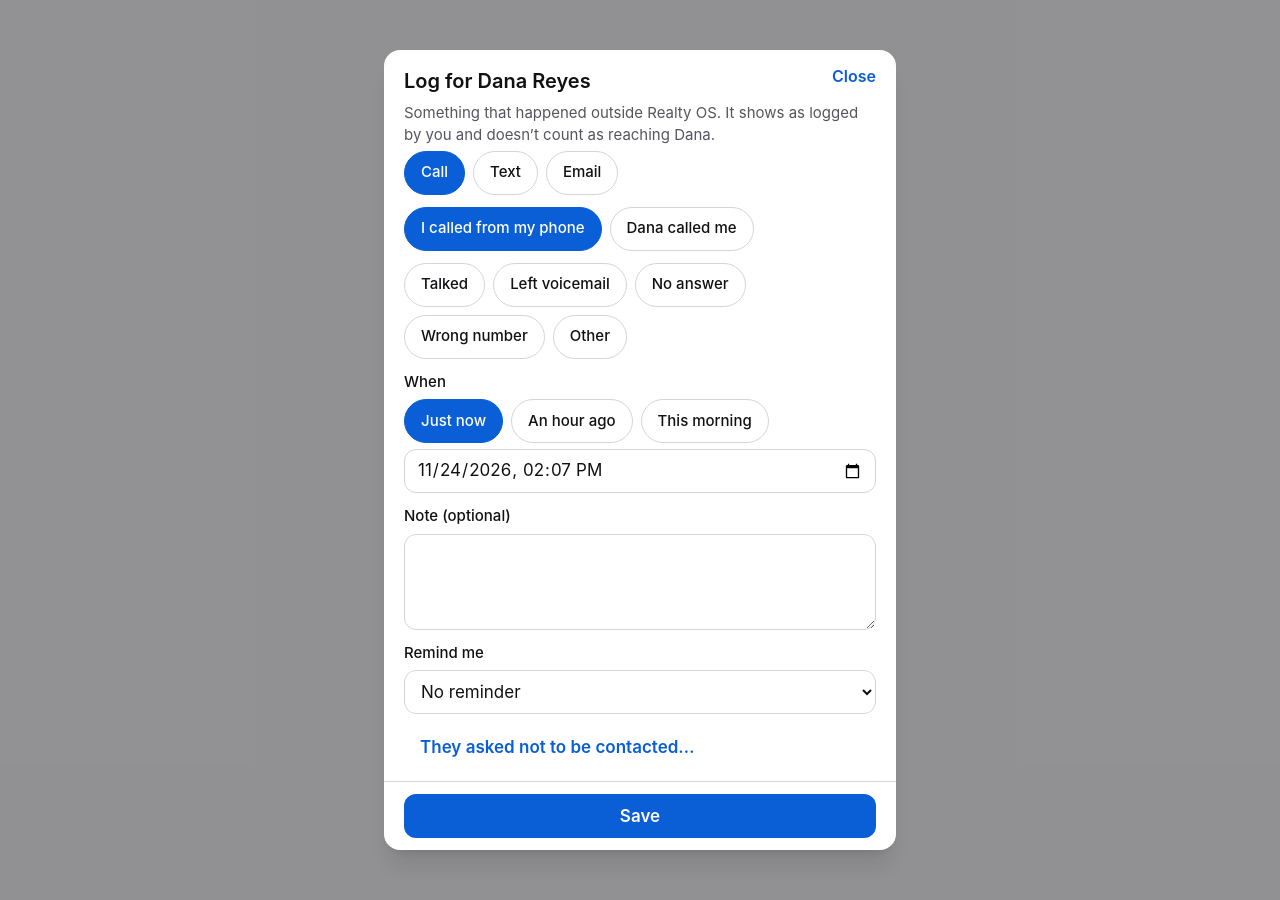
Scenario: M6 (E775): Log → outcome → one button saves the log and confirms the stage › a conversation offers "Long-term follow-up" beside "Connected", and the plan that will start is said once, above the follow-up
Click the button "Talked" at x=445, y=285, box x1=404 y1=263 x2=485 y2=307
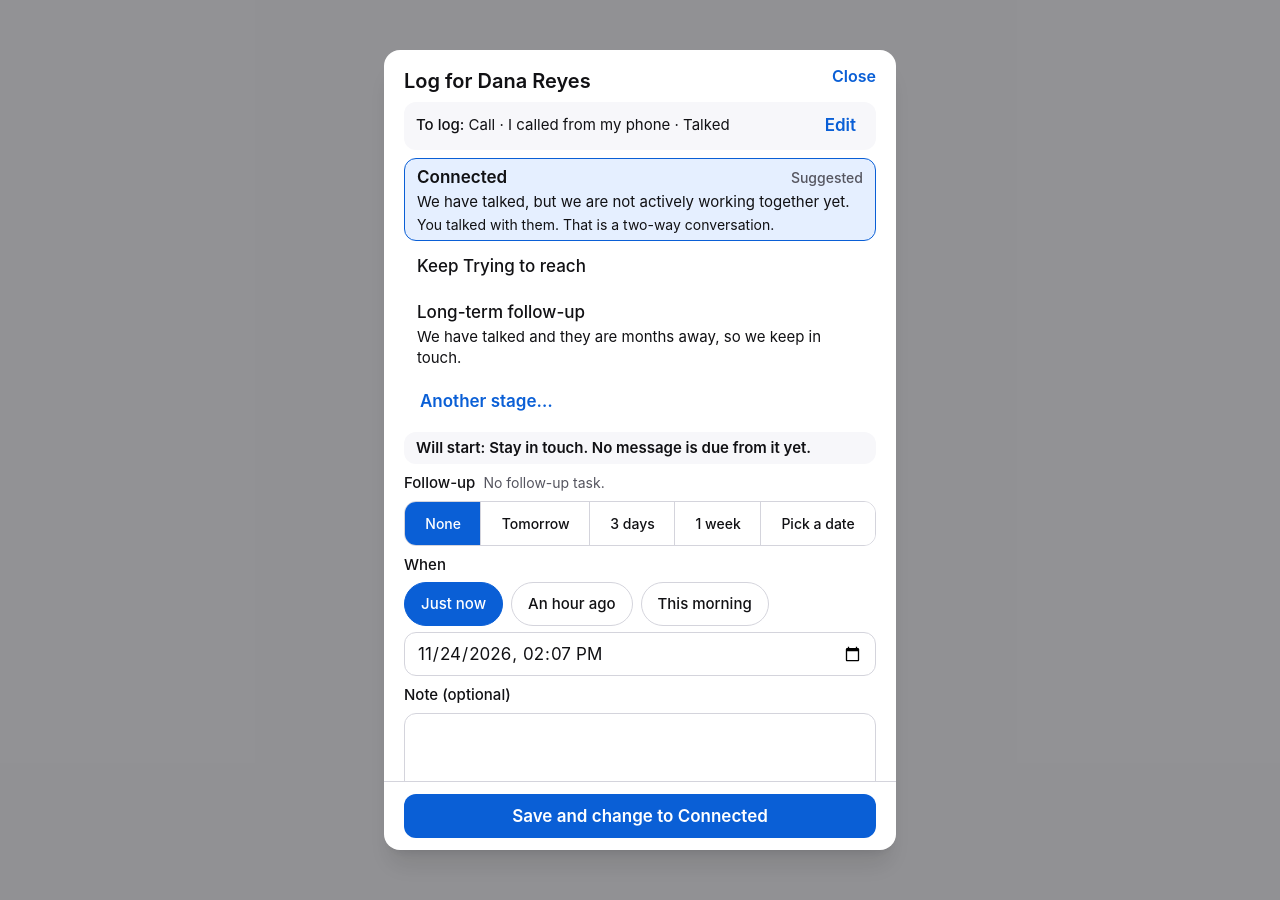
Now the radio button labelled "Long-term follow-up" is shown, box x1=404 y1=293 x2=876 y2=376
Now the text with test id "stage-step-effect" reads "Will start: Stay in touch. No message is due from it yet.", box x1=416 y1=438 x2=811 y2=457
Now the text "Will start: Stay in touch. No message is due from it yet." is shown once, box x1=416 y1=438 x2=864 y2=458
